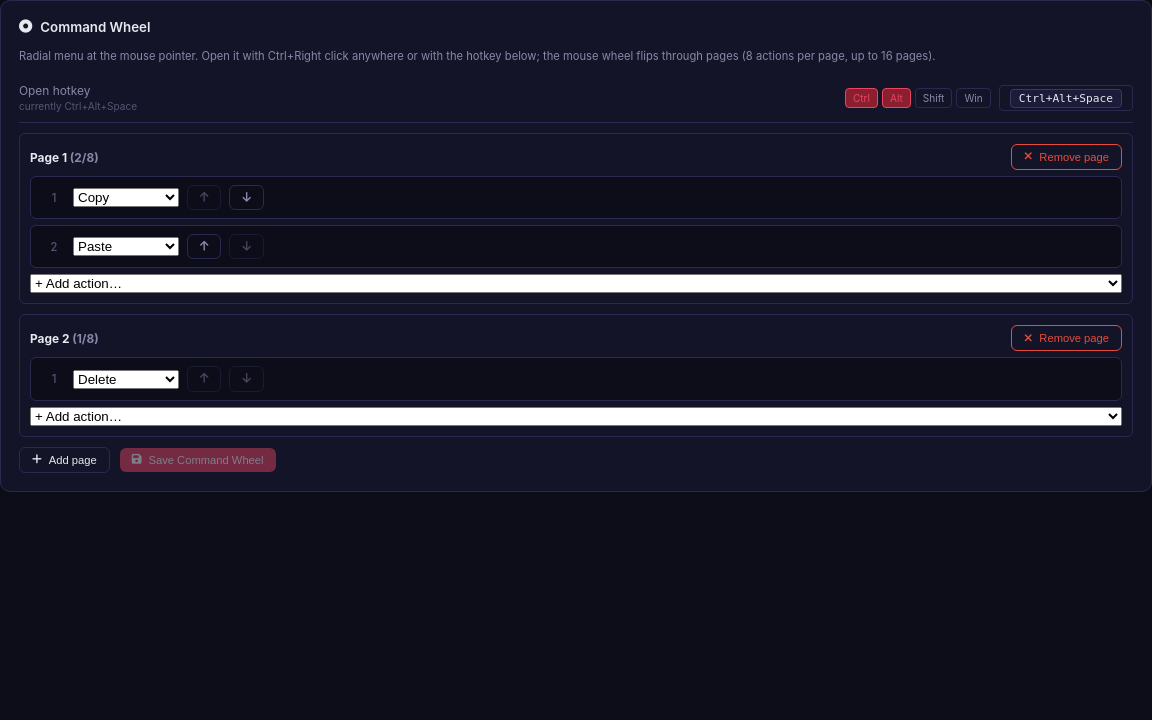
CommandWheelSection › supports pages and prevents saving an empty wheel
expect the text "Page 1" is shown: met, box [30,150,99,164]
Click the button "Add page" at coordinates (64, 460), box [19,447,110,473]
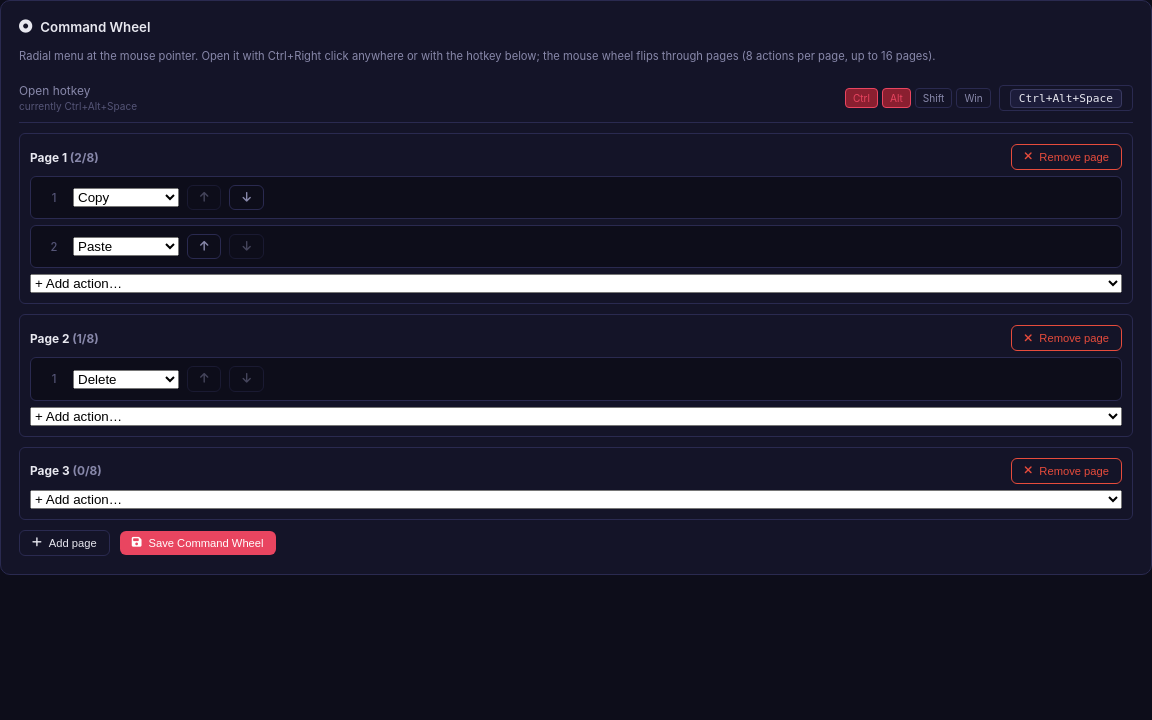
expect the element with test id "wheel-page-2" is shown: met, box [19,447,1133,520]
Select "Copy" in the dropdown named "add action to page 3" at coordinates (576, 499), box [30,490,1122,509]
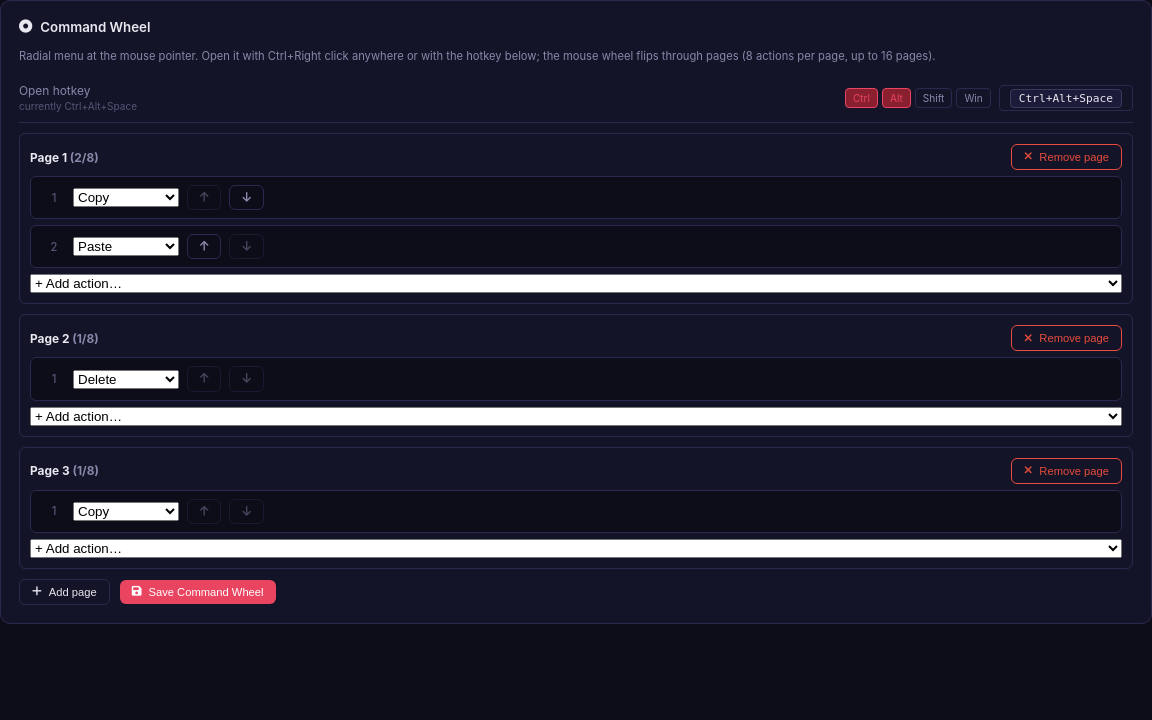
expect the dropdown named "page 3 slot 1" shows "Copy": met, box [73,502,179,521]
Select "— Remove —" in the dropdown named "page 1 slot 1" at coordinates (126, 198), box [73,188,179,207]
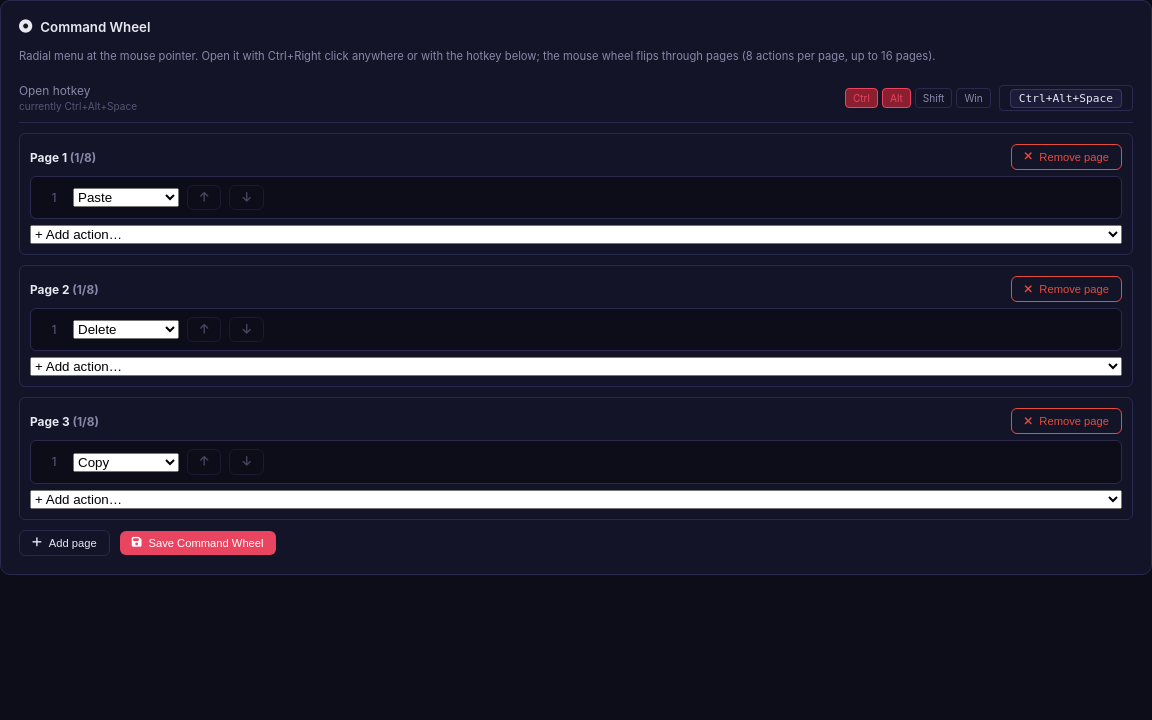
Select "— Remove —" in the dropdown named "page 1 slot 1" at coordinates (126, 198), box [73,188,179,207]
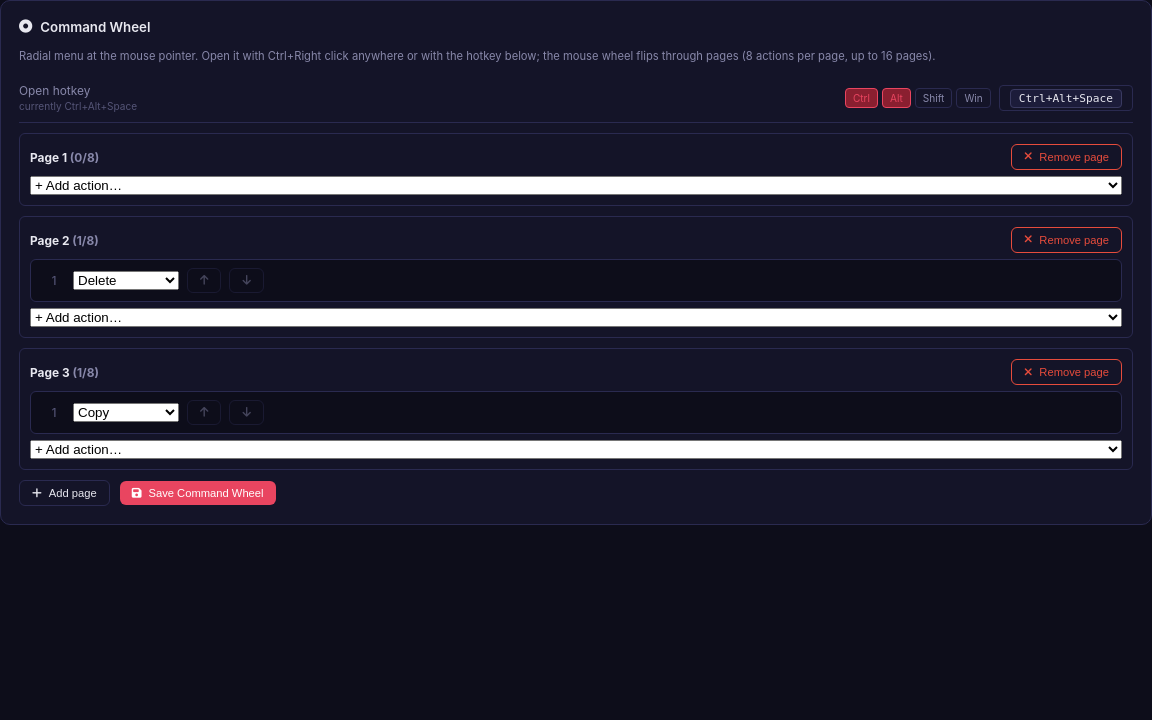
Select "— Remove —" in the dropdown named "page 2 slot 1" at coordinates (126, 281), box [73,271,179,290]
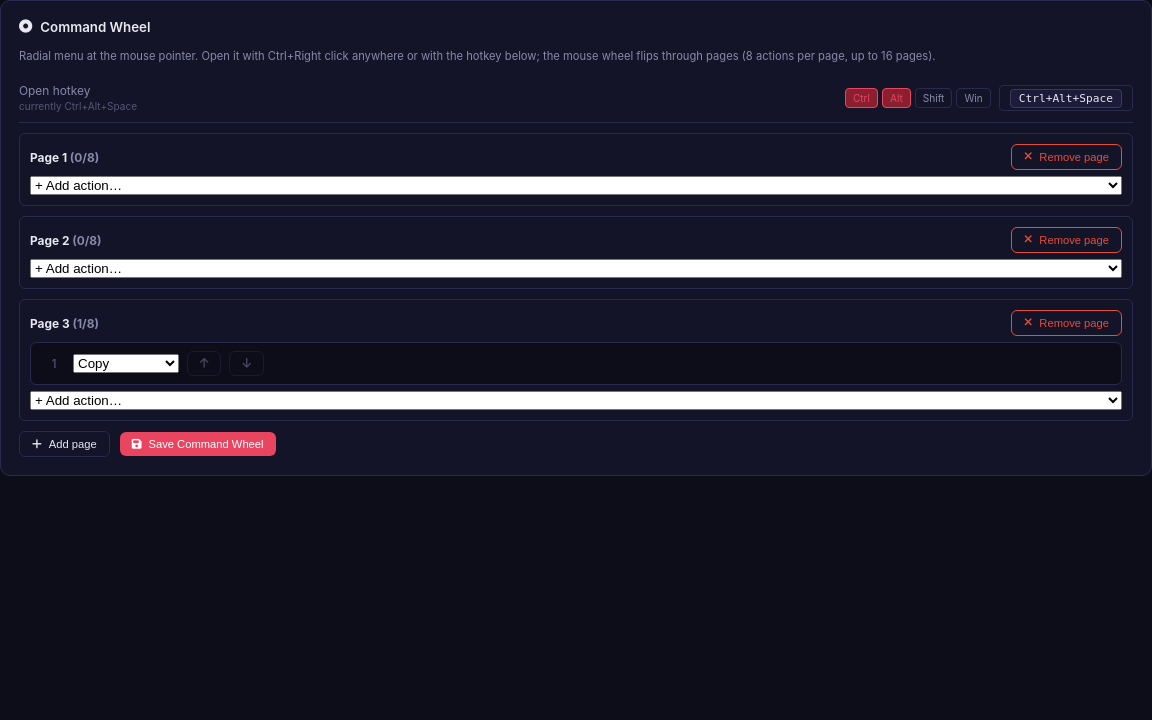
Select "— Remove —" in the dropdown named "page 3 slot 1" at coordinates (126, 364), box [73,354,179,373]
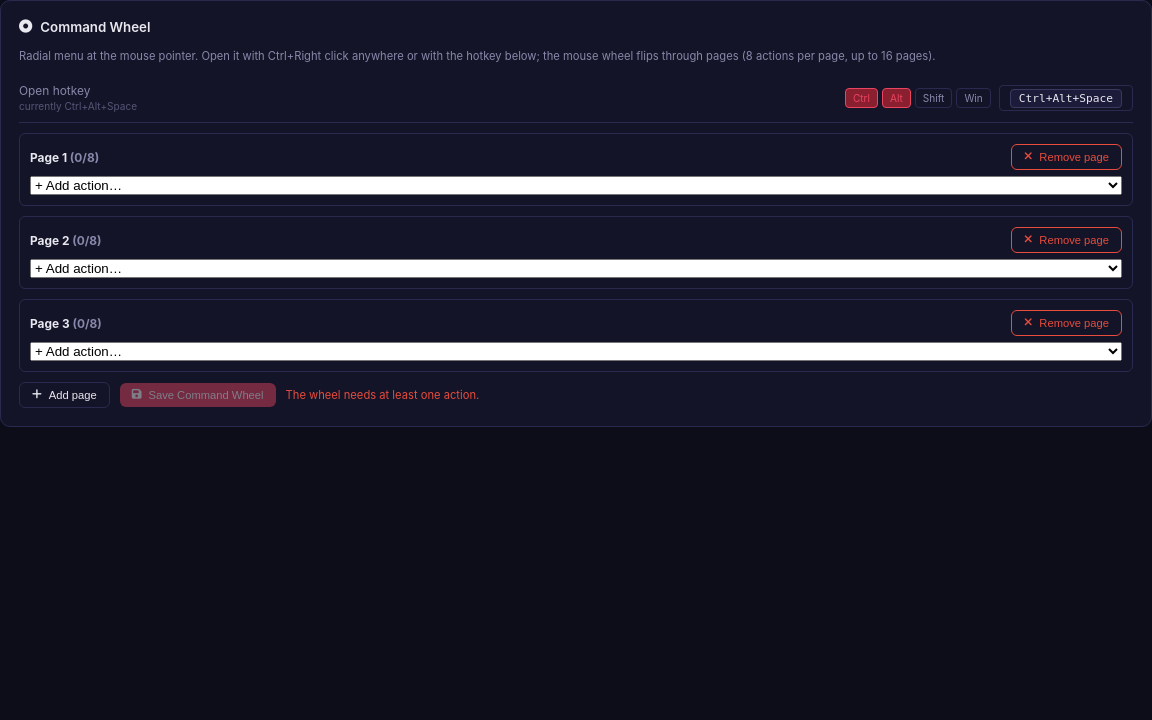
expect the text "The wheel needs at least one action." is shown: met, box [286,388,479,402]
expect the button "Save Command Wheel" is disabled: met, box [120,383,276,407]
